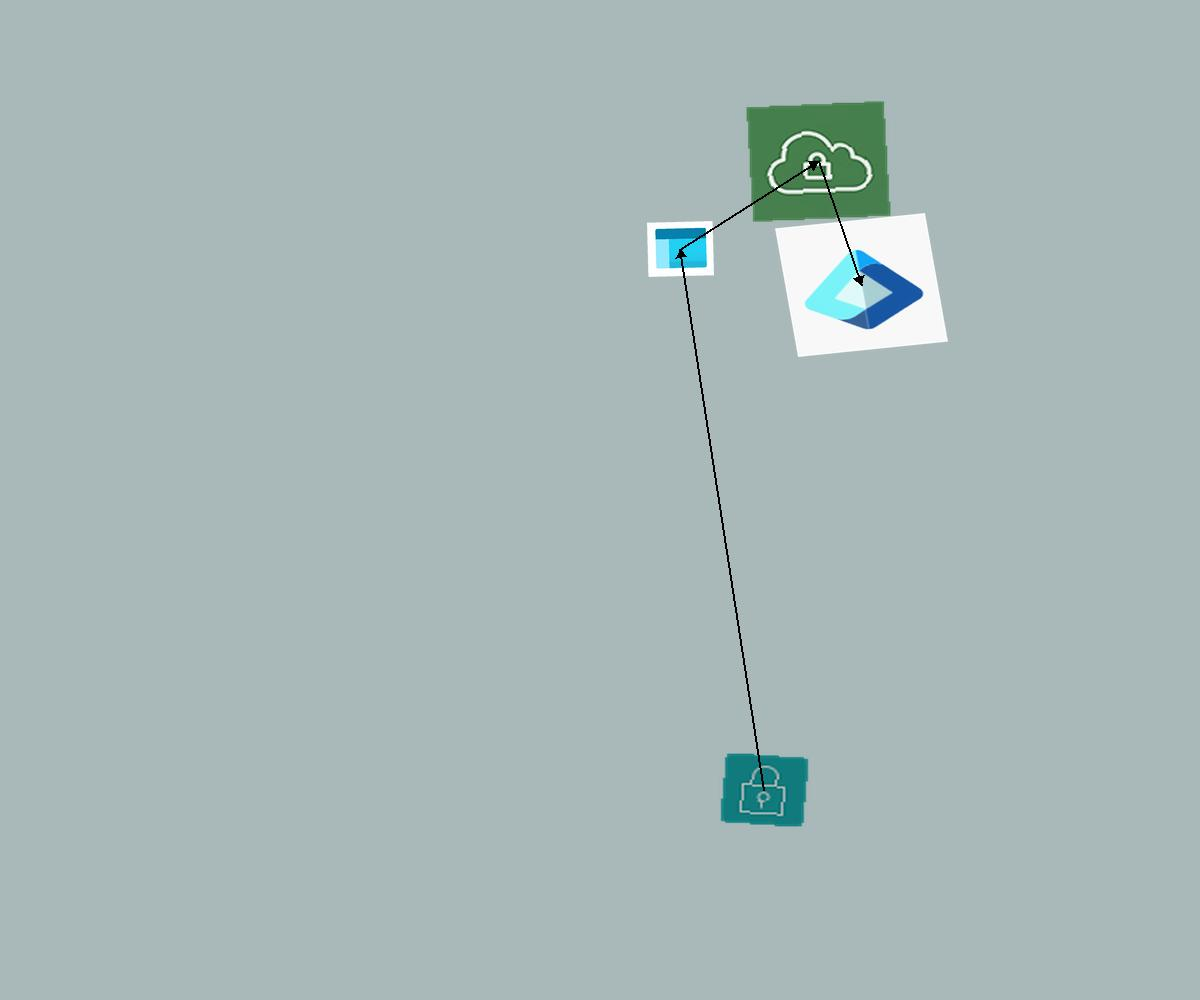AWS-Private-subnet: (719, 752, 810, 828)
AWS-Private_vpc: (745, 100, 892, 223)
Azure_management-portal: (647, 221, 714, 277)
Azure_microsoft_entra: (775, 213, 948, 357)
